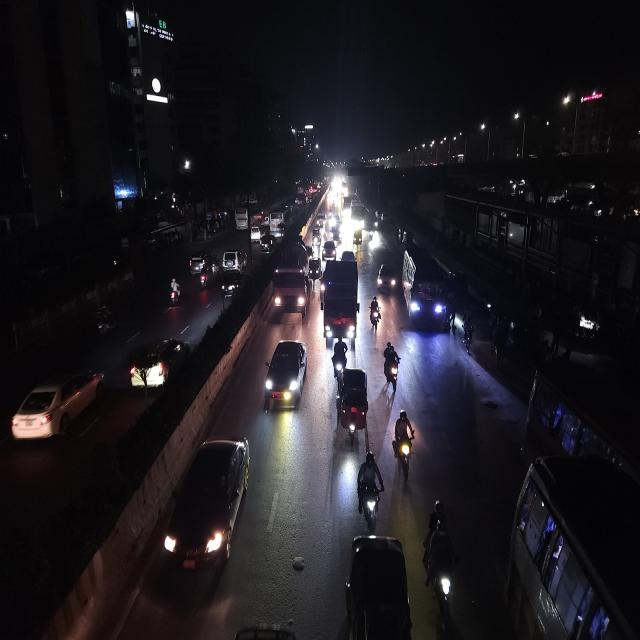bicycle: (461, 316, 476, 360)
bus: (507, 454, 639, 640), (526, 358, 640, 511), (400, 241, 450, 332), (235, 201, 263, 230), (268, 204, 291, 235), (350, 200, 366, 228), (341, 196, 353, 223)
car: (160, 430, 254, 584), (6, 364, 106, 450), (261, 336, 309, 414), (219, 267, 247, 299), (377, 258, 398, 297), (320, 239, 338, 264), (259, 233, 276, 255), (248, 224, 264, 240)
cng: (337, 363, 369, 446), (220, 248, 248, 274), (188, 250, 214, 277), (307, 255, 321, 282), (352, 228, 364, 249)
motorcycle: (421, 496, 459, 630), (356, 448, 384, 530), (391, 407, 419, 479), (382, 339, 402, 392), (91, 304, 117, 342), (331, 336, 349, 379), (166, 275, 184, 310), (368, 292, 382, 335)
truck: (321, 256, 362, 346), (272, 241, 310, 319)
